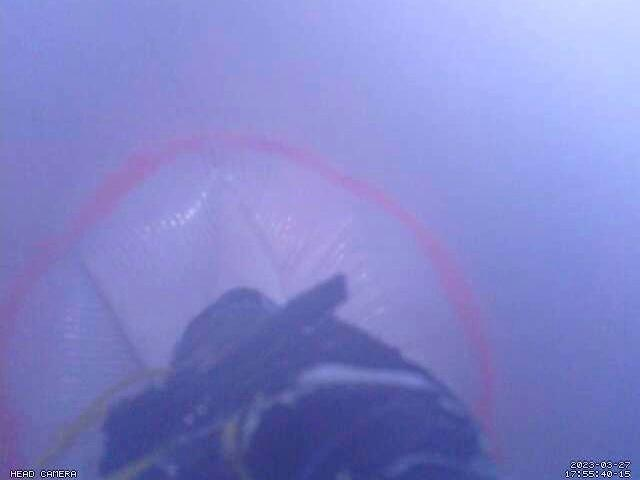head: (0, 129, 503, 480)
